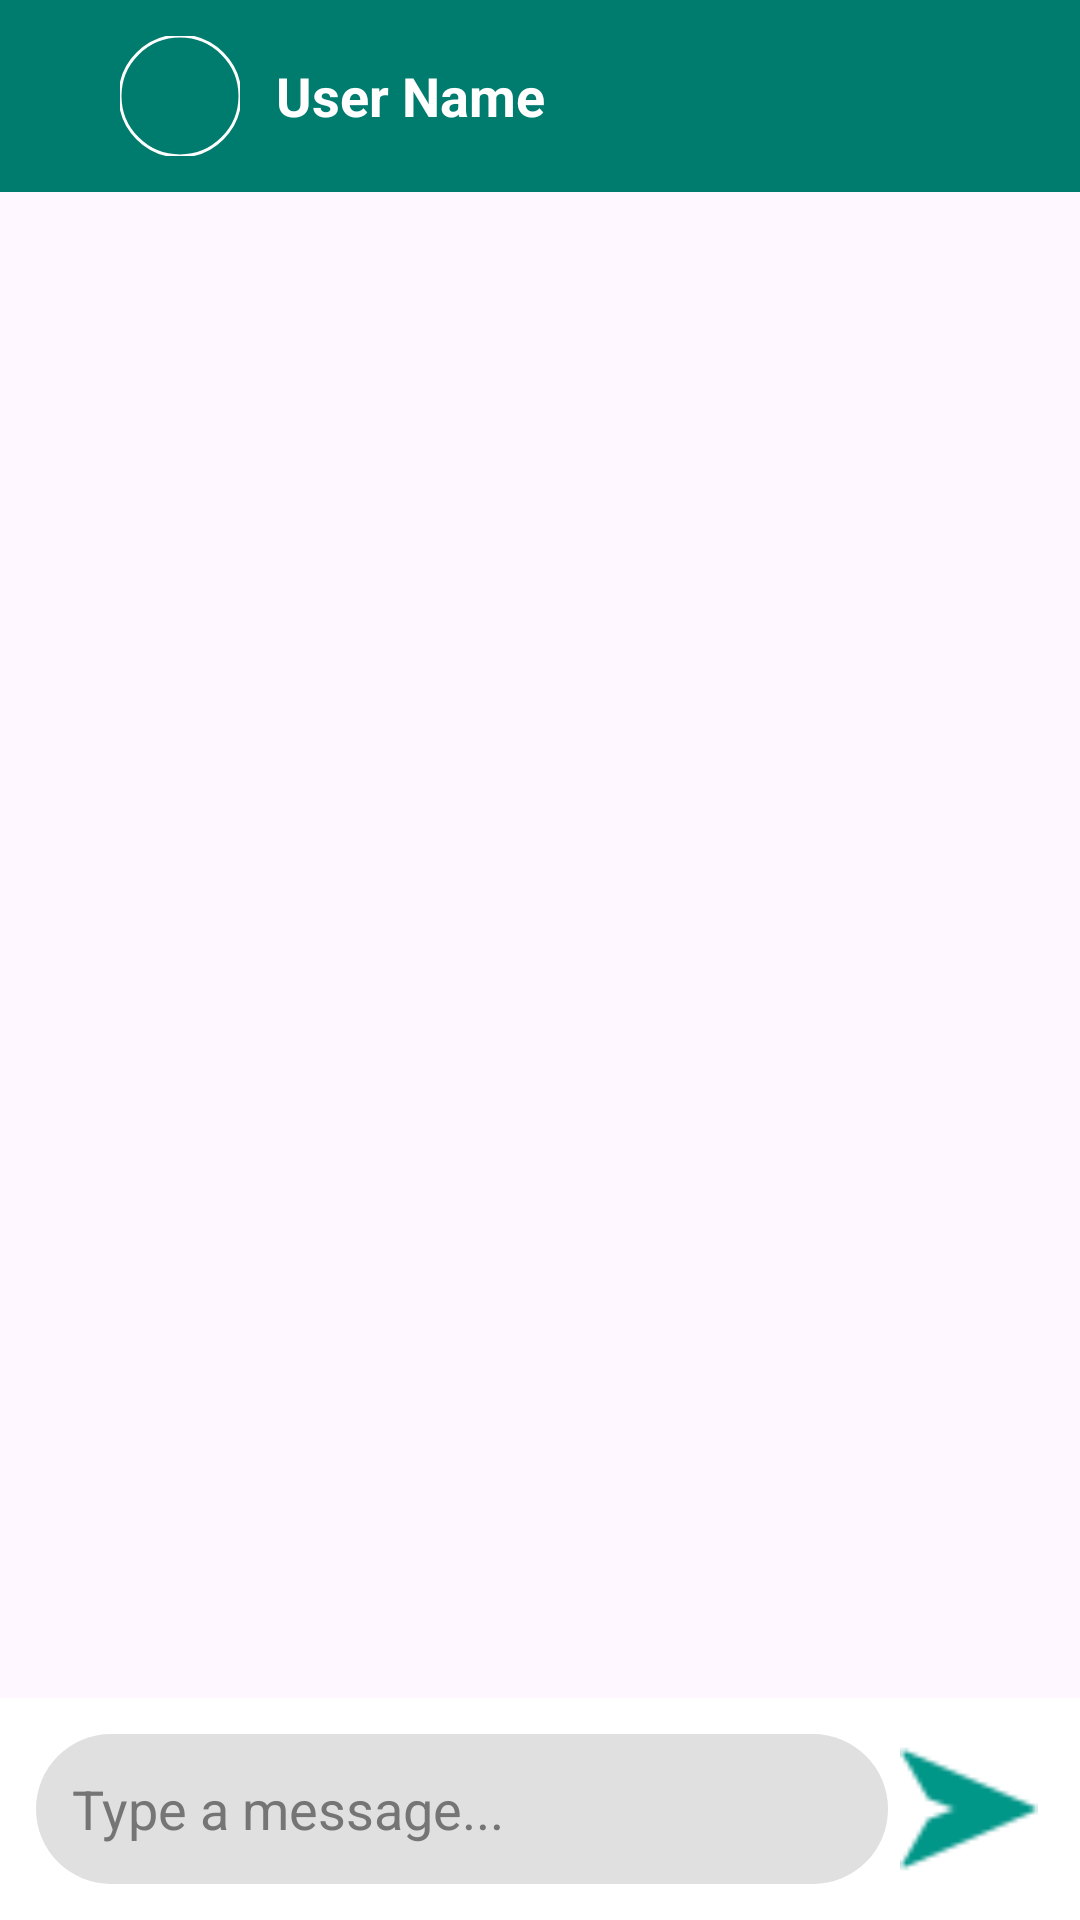

Point at icon controls on the screen. Image size 1080×1920, points as (x,y).
send: (969,1809)
